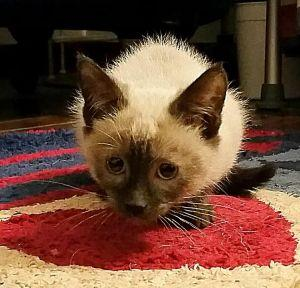siamese: (64, 44, 241, 231)
